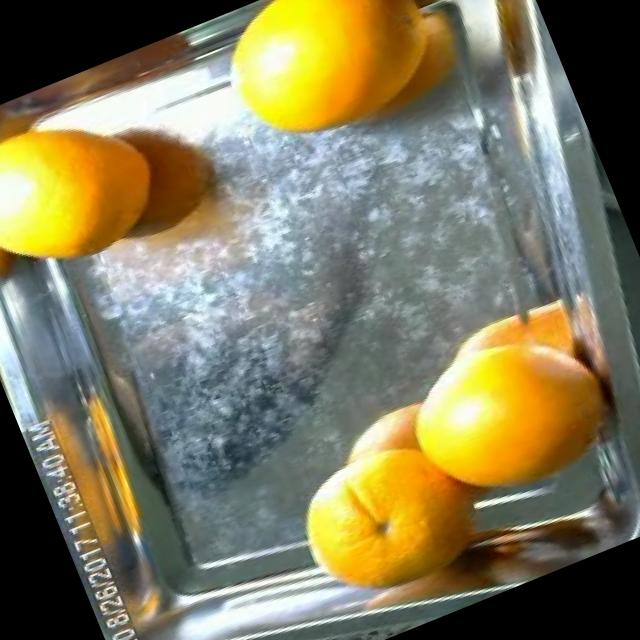Fruit: (190, 0, 434, 179)
